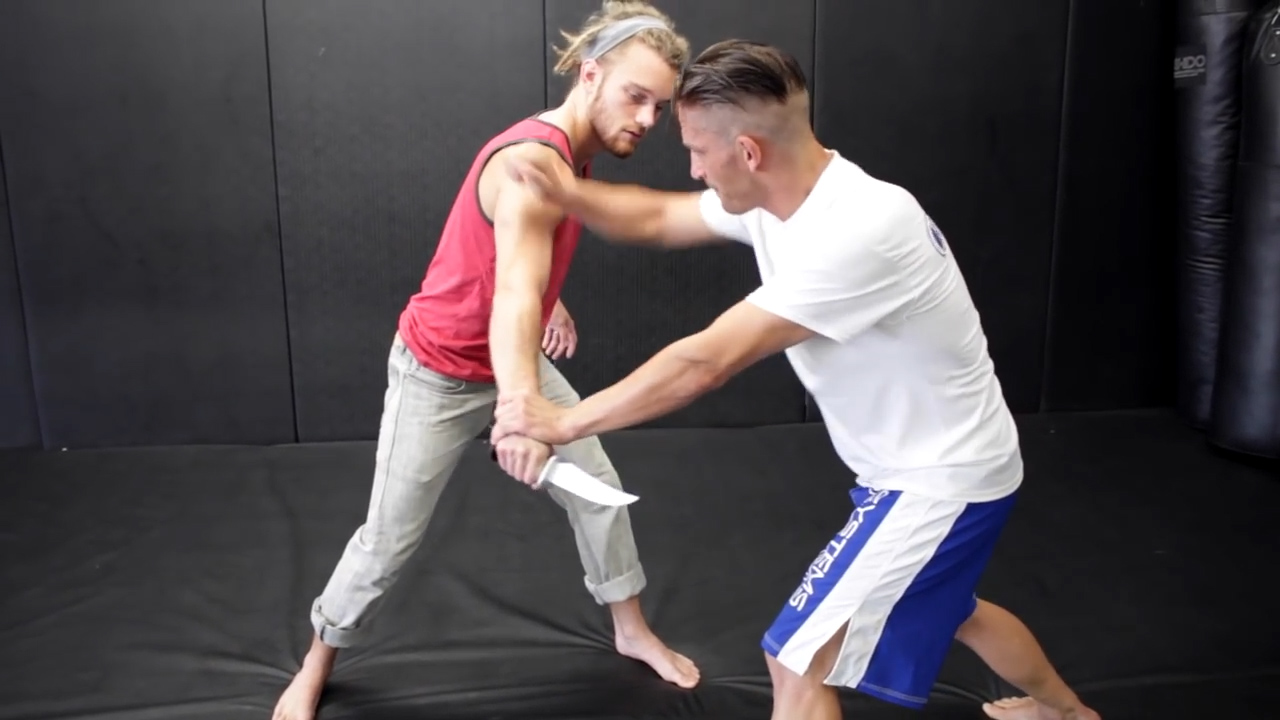knife: (488, 443, 653, 519)
